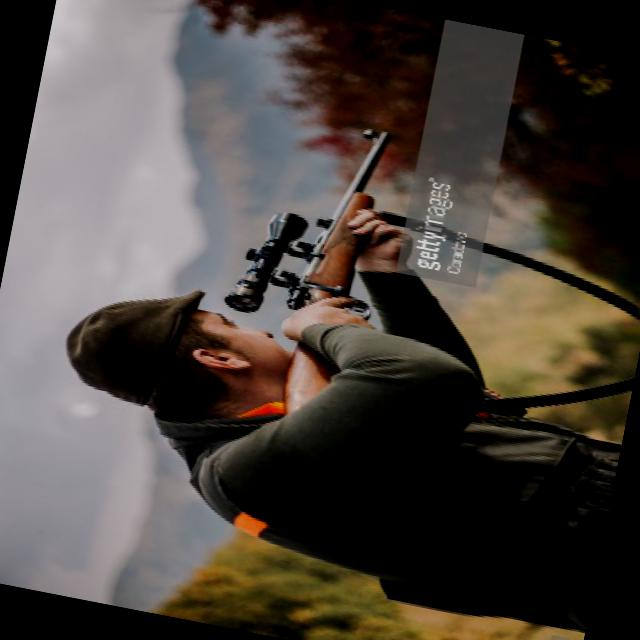long weapon: (195, 103, 399, 434)
